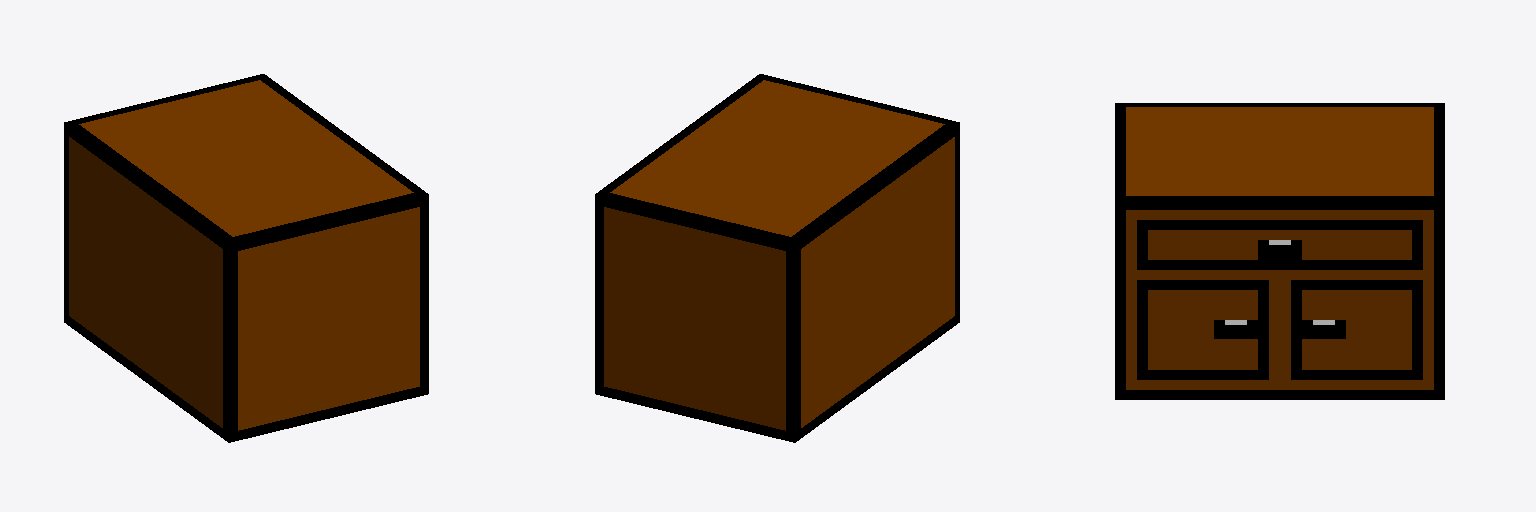
3 renders of one model, left to right at view 1: azimuth 30°, elevation 25°; view 2: azimuth 150°, elevation 25°; view 3: azimuth 270°, elevation 25°, orthographic.
Parts seen in each view (by area): view 1: object 1; view 2: object 1; view 3: object 1.
Part boxes in pixels (bbox=[...]): object 1: bbox=[64, 74, 428, 442]; object 1: bbox=[595, 74, 959, 442]; object 1: bbox=[1115, 103, 1444, 399].
Bounding box in the file's own units: 2.3 × 2 × 3.
1 materials, 1 textured.